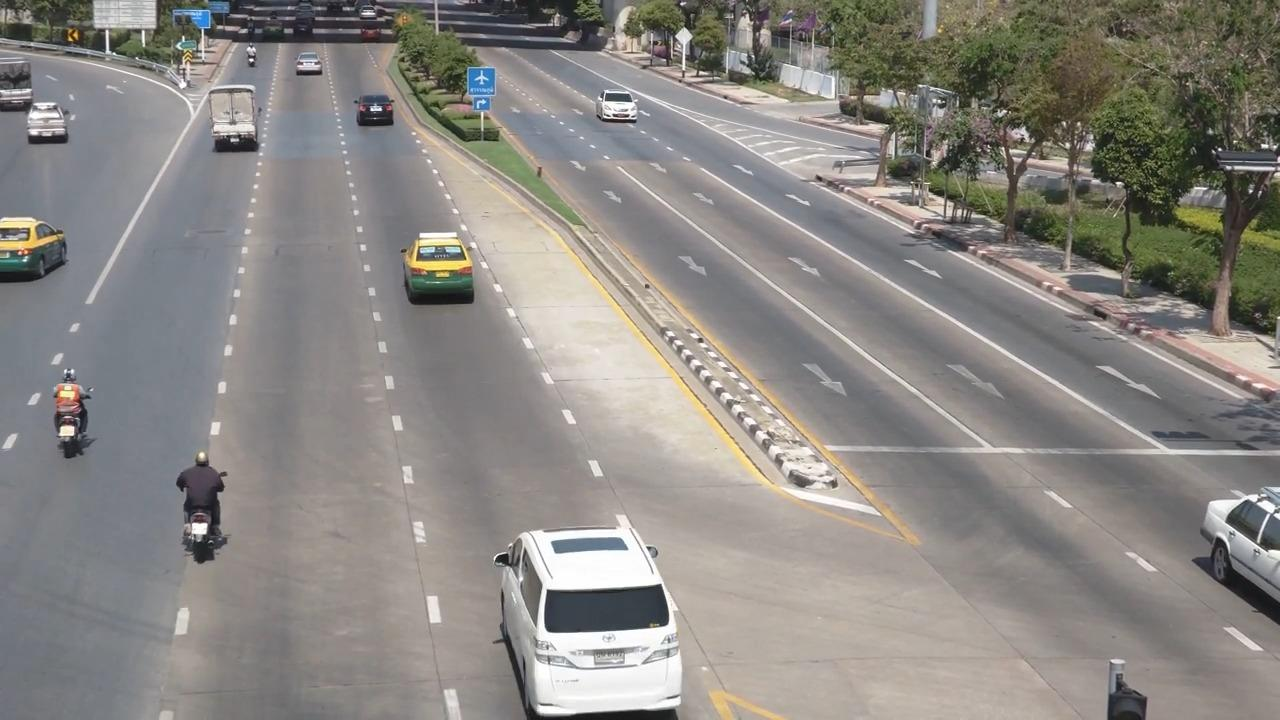CAR: (482, 492, 715, 720), (1187, 471, 1280, 630), (395, 226, 490, 317), (194, 76, 266, 167), (0, 214, 73, 289), (19, 96, 75, 163), (0, 52, 49, 121), (586, 79, 644, 127), (349, 90, 403, 135), (289, 47, 337, 89), (351, 19, 388, 56), (289, 9, 323, 37)
MOTOR: (148, 435, 243, 580), (46, 352, 107, 481), (239, 36, 266, 81)
